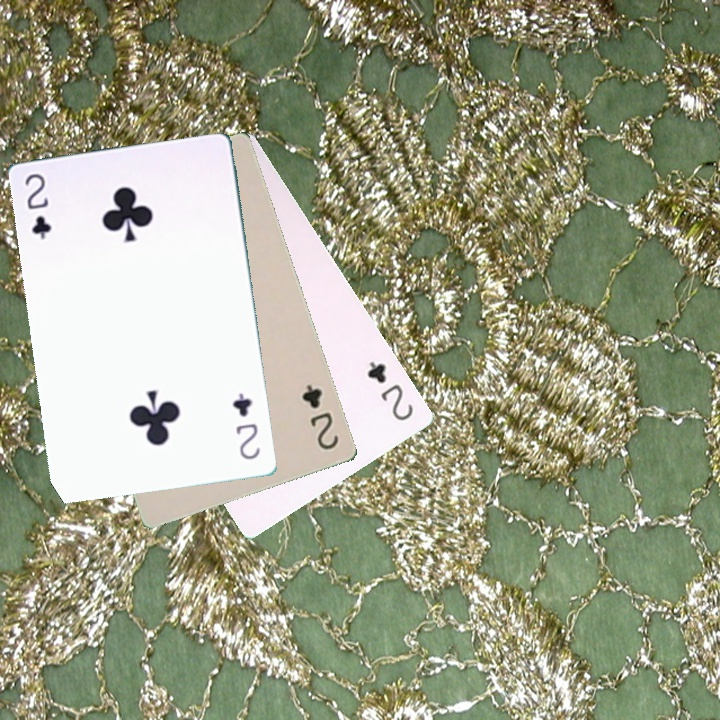2c: (363, 357, 416, 424), (298, 380, 342, 453), (228, 389, 263, 462), (20, 169, 54, 242)
